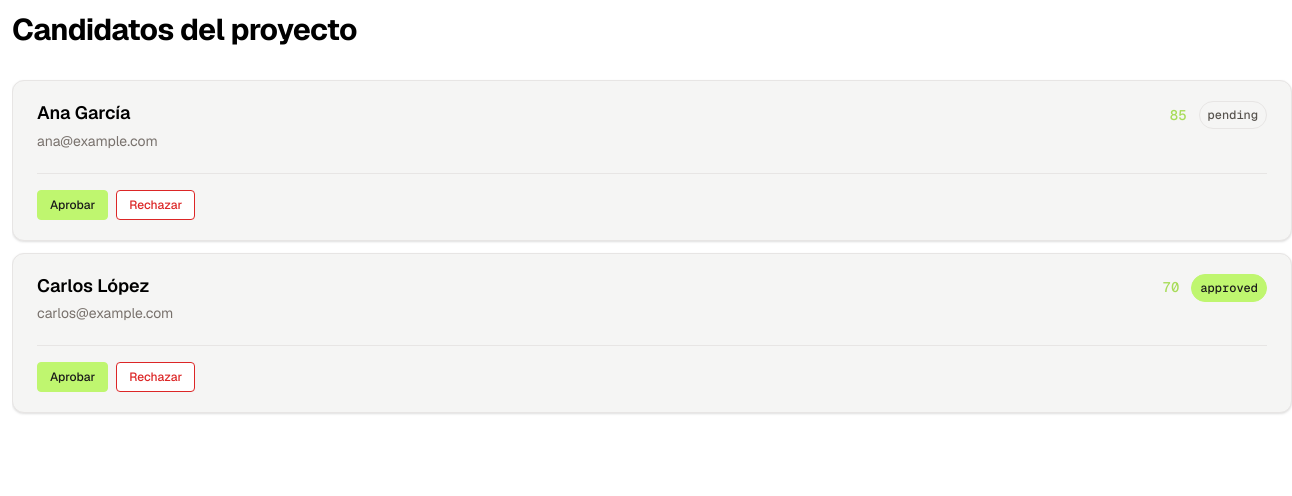
NgoProjectCandidatesPage › AC7: muestra error si updateApplicationStatus responde 403
The image size is (1292, 496).
Expected: the heading "Ana García" is shown, [37,101,130,124]
Step 1. Click the button "Rechazar" below "ana@example.com" → (156, 204), box [116,190,195,220]
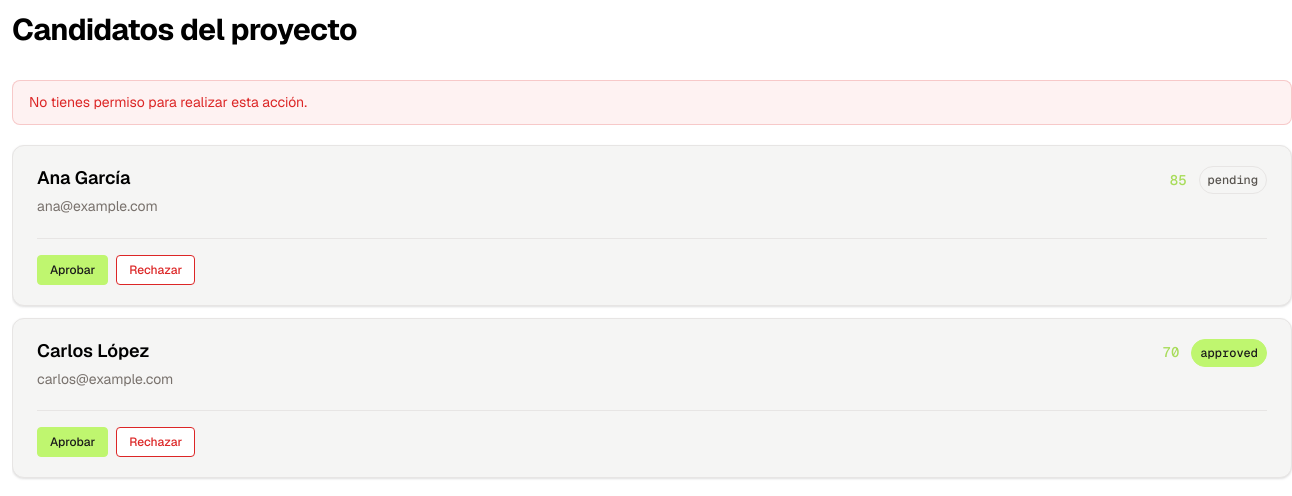
Result: the message "No tienes permiso para realizar esta acción." is shown at [12,80,1291,125]
Result: the message shows "No tienes permiso" at [29,93,307,111]
